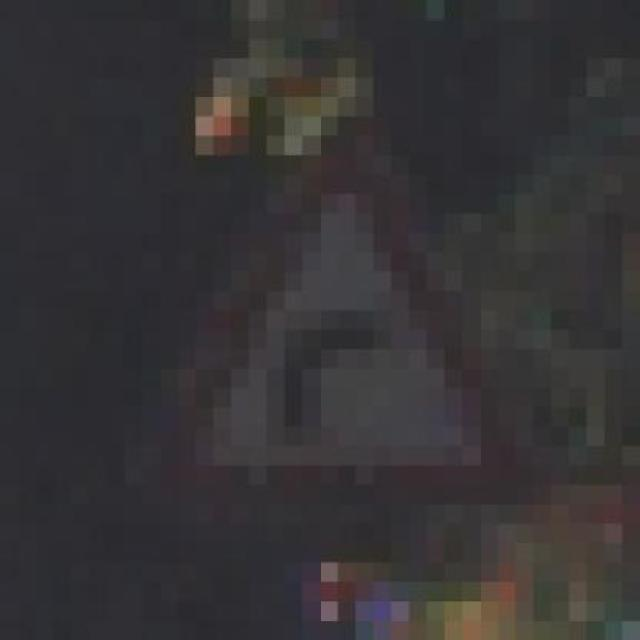Dangerous Rright Curve Ahead: (124, 135, 534, 543)
